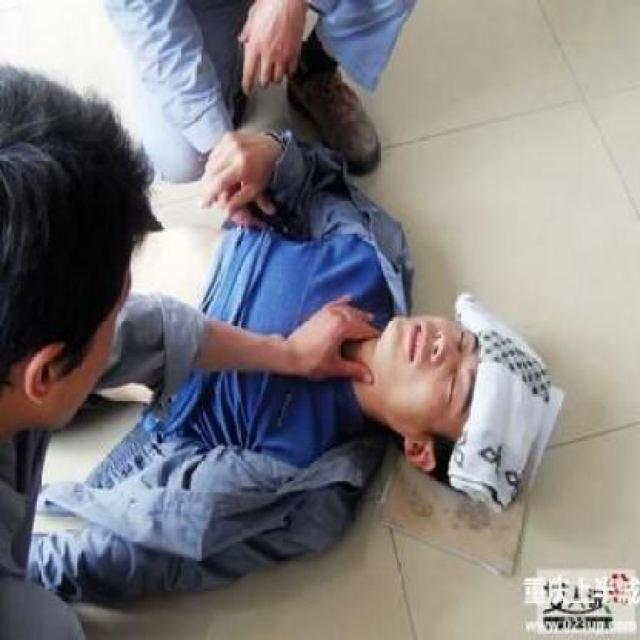fall: (34, 81, 541, 614)
